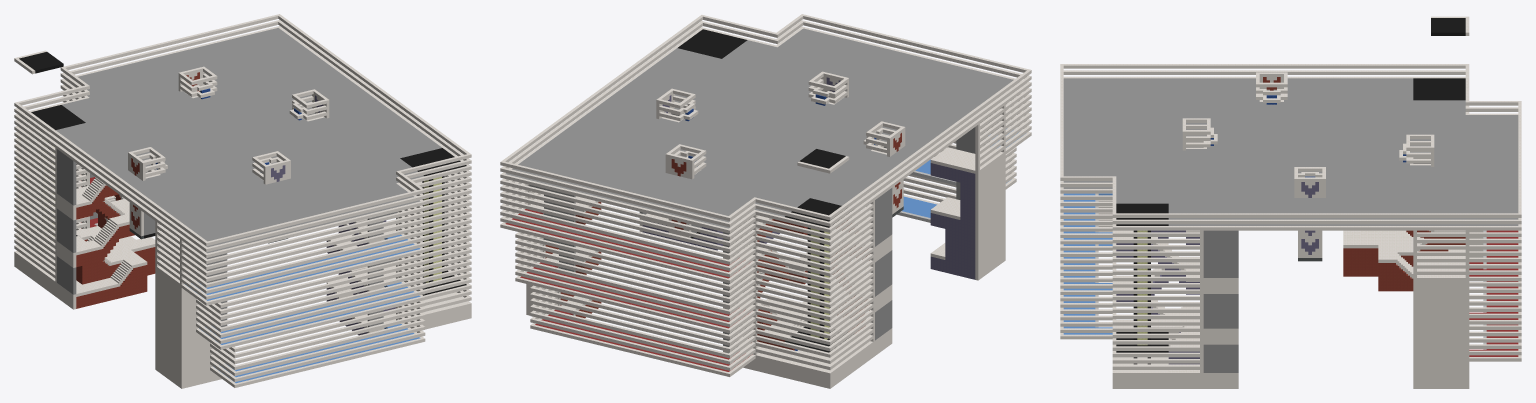
The model's file is minecraft.obj.
The picture shows the model from 3 angles, left to right: view 1: azimuth 30°, elevation 25°; view 2: azimuth 150°, elevation 25°; view 3: azimuth 270°, elevation 25°; orthographic projection. The views are drawn at different scales.
Bounding box in the file's own units: 1020 × 710 × 1320.
